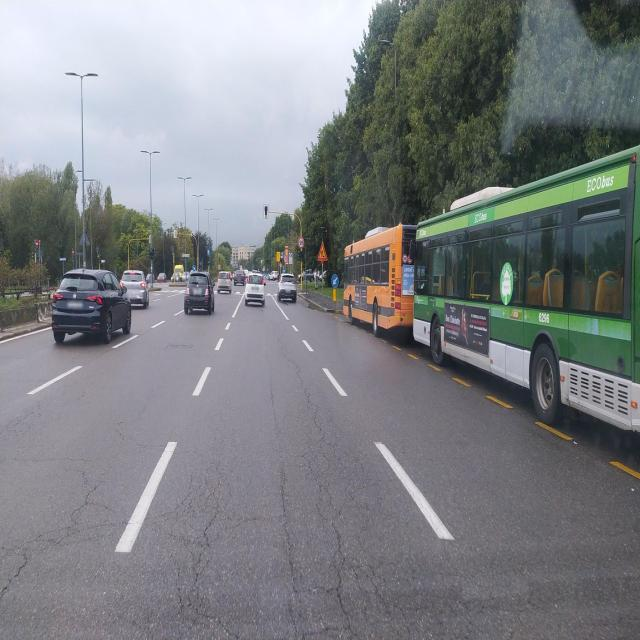car: (51, 267, 132, 345), (184, 270, 215, 315), (120, 269, 150, 308), (244, 272, 266, 307), (277, 272, 297, 303), (216, 271, 231, 294), (233, 270, 245, 286)
